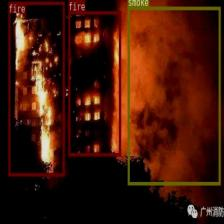fire: (8, 1, 64, 176), (68, 10, 120, 156)
smoke: (128, 7, 220, 184)
